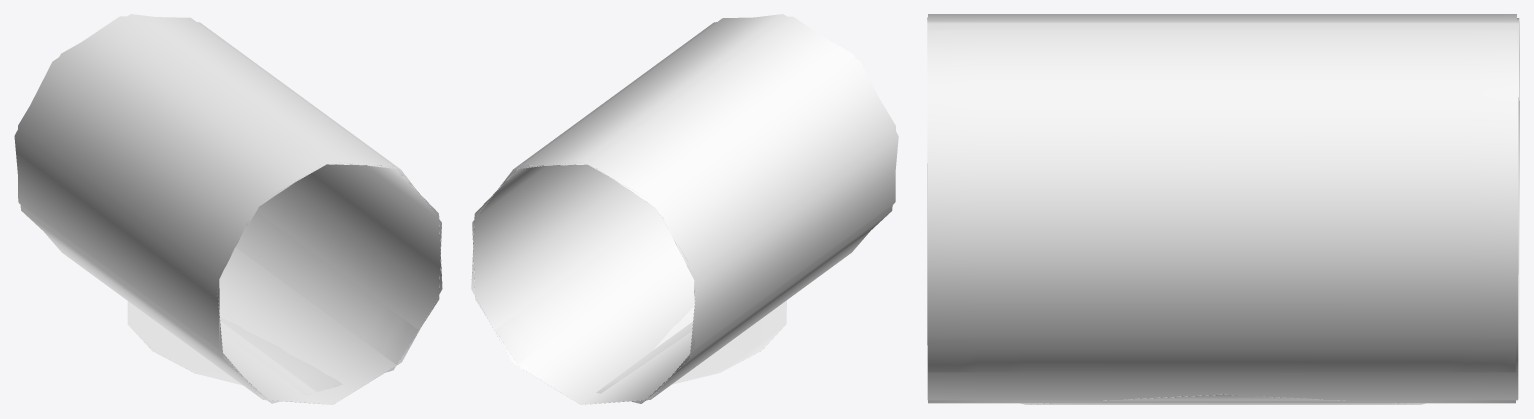
The model's file is Level 179.fbx.
3 renders of one model, left to right at view 1: azimuth 30°, elevation 25°; view 2: azimuth 150°, elevation 25°; view 3: azimuth 270°, elevation 25°, orthographic. The views are drawn at different scales.
Visible parts, largest first — view 1: Blend; view 2: Blend; view 3: Blend.
Part boxes in pixels (left/top/right/bottom): Blend: left=14, top=14, right=442, bottom=404; Blend: left=471, top=14, right=898, bottom=404; Blend: left=927, top=14, right=1519, bottom=404.
Size of what is drawn, in the model's own units: 76.41 by 78.86 by 118.
